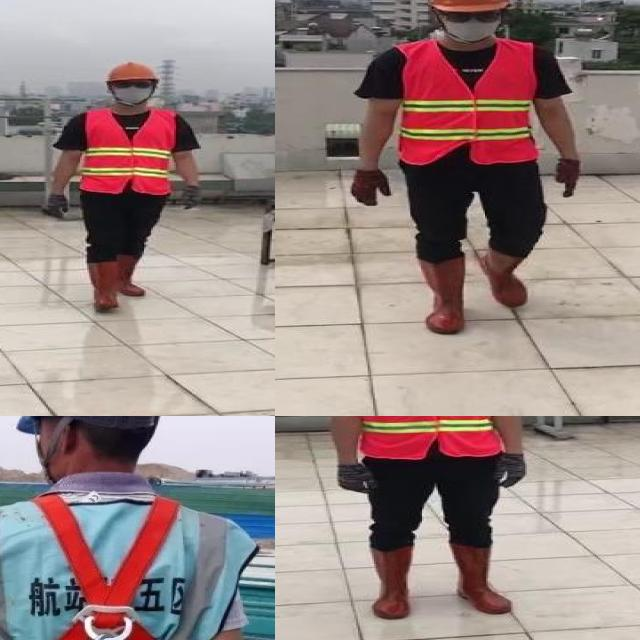Harness: (0, 498, 199, 640)
boots: (444, 543, 514, 615), (416, 257, 467, 333), (364, 544, 414, 620), (480, 246, 533, 307), (85, 261, 121, 310), (119, 258, 148, 298)
face_mask: (440, 4, 504, 45), (110, 78, 156, 104)
glasses: (439, 8, 504, 26), (110, 79, 151, 90)
hand_glove: (327, 463, 380, 497), (348, 169, 391, 207), (495, 453, 532, 490), (554, 159, 580, 199), (41, 194, 67, 219), (183, 186, 201, 210)
head_helmet: (104, 62, 161, 82), (423, 0, 512, 12)
person: (347, 0, 587, 336), (309, 416, 533, 623), (40, 60, 202, 312)
vest: (396, 41, 540, 167), (84, 107, 176, 196), (351, 416, 502, 460)
